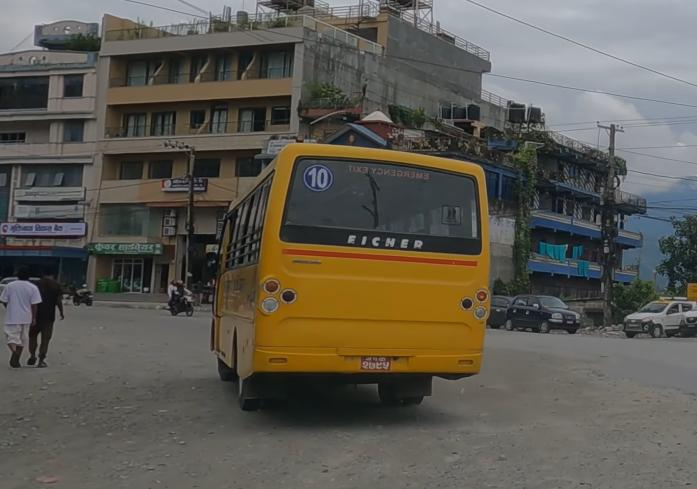bike: (169, 293, 198, 318)
car: (500, 289, 586, 335)
school_bus: (205, 141, 496, 414)
taxi: (621, 292, 697, 341)
